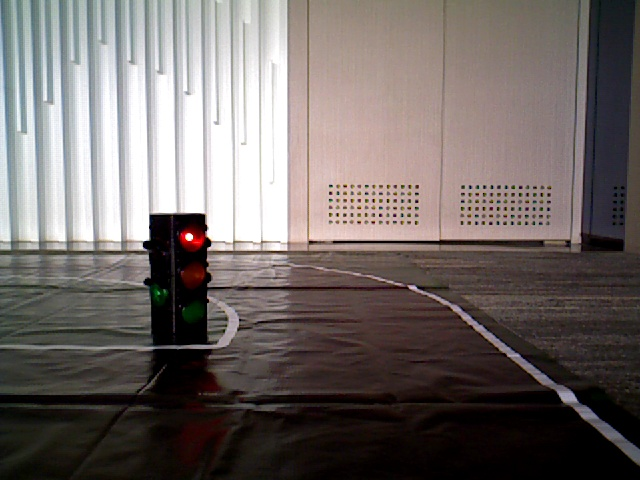red: (168, 217, 207, 331)
